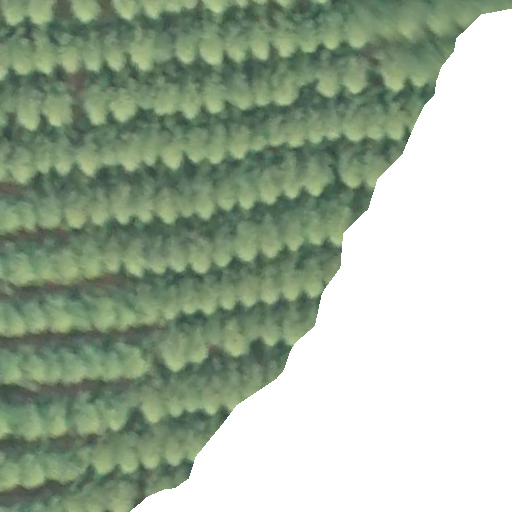eucalipto: (77, 75, 113, 127)
